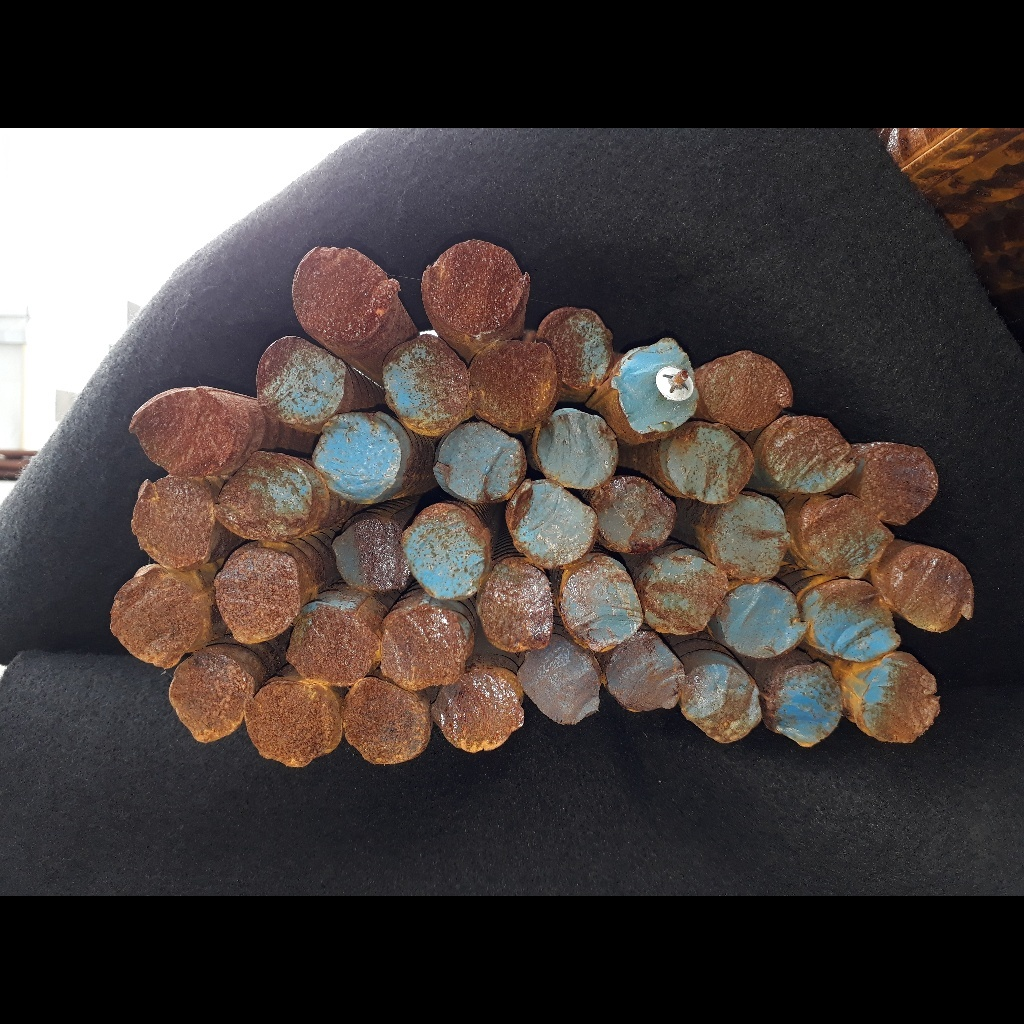dipstick: (428, 241, 525, 333), (295, 248, 388, 341), (112, 569, 202, 662), (219, 453, 311, 541), (697, 494, 789, 582), (140, 391, 233, 476), (621, 336, 698, 434), (387, 340, 471, 429), (249, 683, 342, 763), (215, 551, 299, 639), (169, 654, 250, 741), (288, 607, 380, 683), (258, 337, 343, 419), (668, 419, 753, 501), (313, 416, 400, 496), (564, 559, 640, 648), (437, 671, 521, 751), (471, 342, 552, 424), (411, 504, 484, 594), (815, 580, 894, 663), (509, 485, 593, 563), (344, 684, 429, 761), (135, 477, 209, 565), (866, 656, 938, 745), (645, 554, 725, 634), (809, 499, 890, 576), (862, 444, 938, 525), (437, 426, 521, 499), (900, 550, 974, 632), (483, 561, 552, 648), (522, 648, 600, 724), (685, 664, 762, 740), (706, 351, 784, 426), (608, 633, 682, 711), (537, 413, 616, 486), (596, 478, 675, 551), (726, 584, 803, 658), (383, 615, 465, 682), (333, 519, 407, 593), (773, 418, 850, 488), (541, 309, 610, 385), (777, 663, 840, 746)
